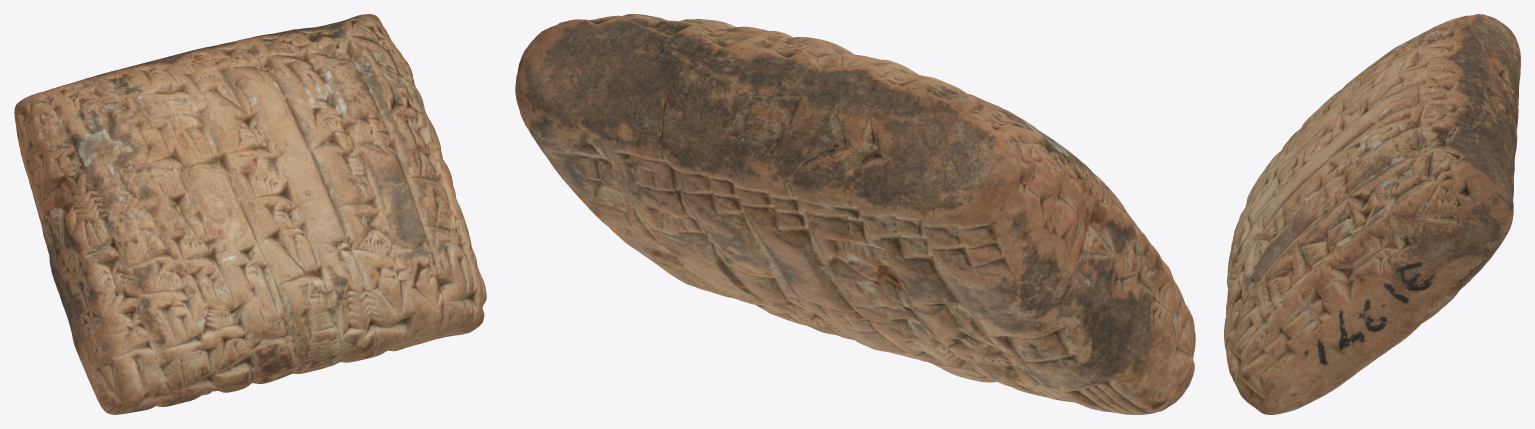
File: cuneiform_tablet_ur_iraq.glb
3 renders of one model, left to right at view 1: azimuth 30°, elevation 25°; view 2: azimuth 150°, elevation 25°; view 3: azimuth 270°, elevation 25°, orthographic. The views are drawn at different scales.
Parts seen in each view (by area): view 1: Object_3, Object_2; view 2: Object_2, Object_3, Object_4; view 3: Object_3, Object_2, Object_4.
Boxes of the visible parts, x1,y1,x2,y2 form: Object_3: (14,14,486,412); Object_2: (14,105,477,414); Object_2: (515,44,1195,414); Object_3: (515,14,1195,378); Object_4: (530,40,1193,320); Object_3: (1224,14,1512,413); Object_2: (1234,25,1520,414); Object_4: (1243,15,1493,403).
Bounding box in the file's own units: 1 × 0.6686 × 0.6716.
1 material, 1 textured.
